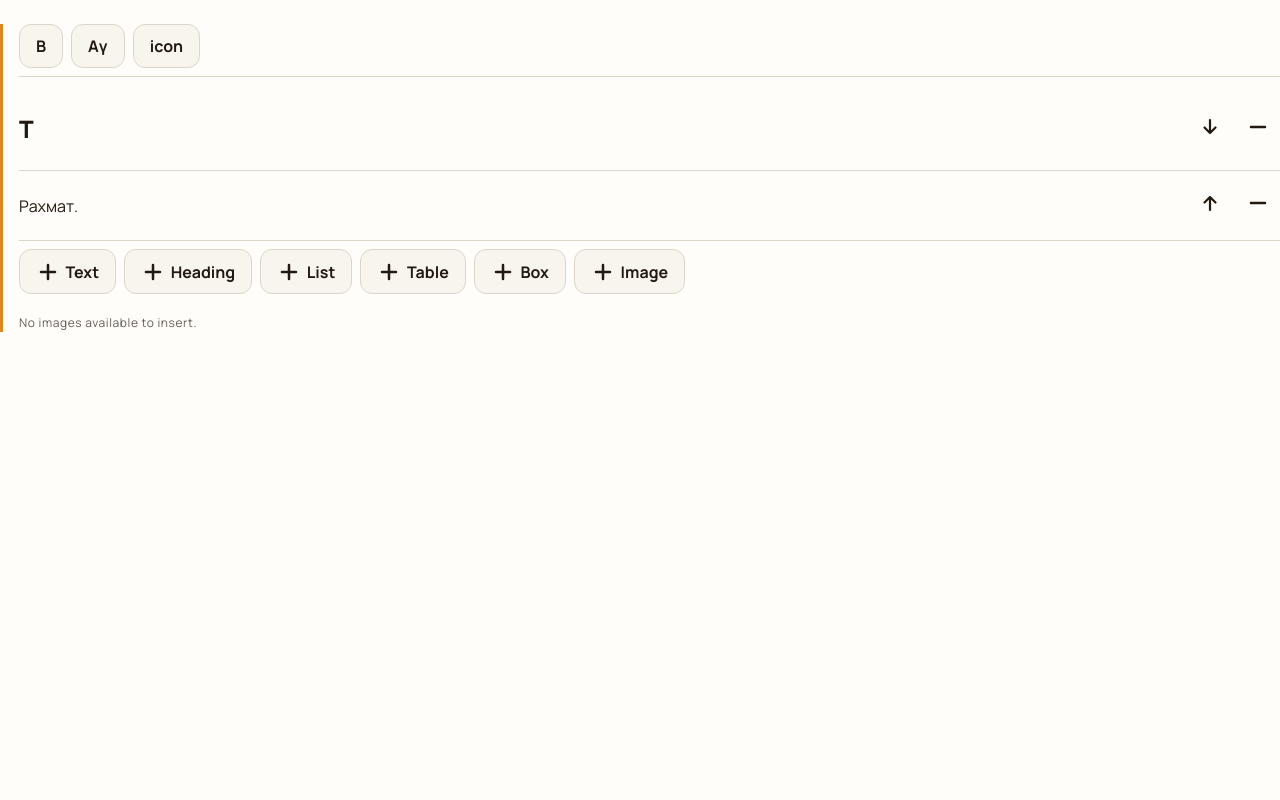
NoteEditor - lexicon sheet (spec 0021-3) › readout: exact match
This screenshot has width=1280, height=800.
Click the button with aria-label "Edit this text" at (49, 206), box [19,195,78,217]
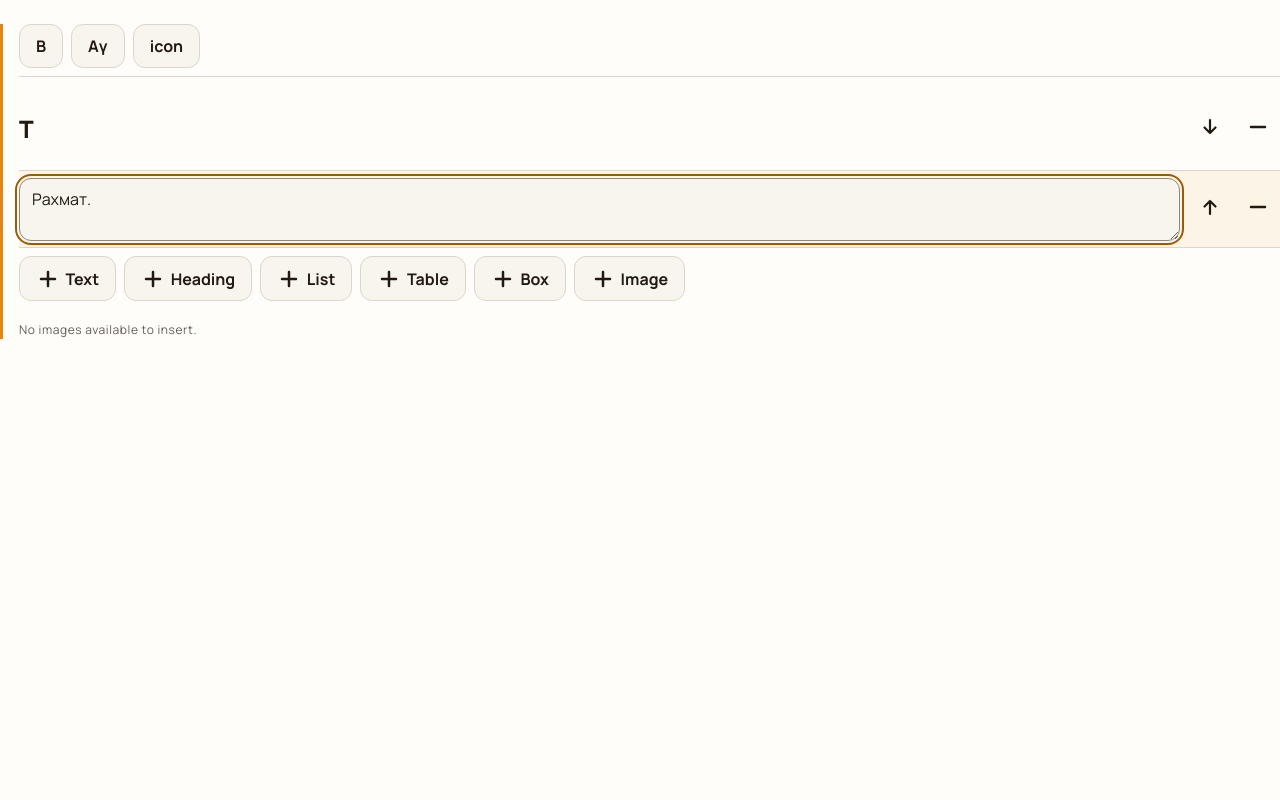
Click the button "Аү" at (98, 46), box [71,24,125,68]
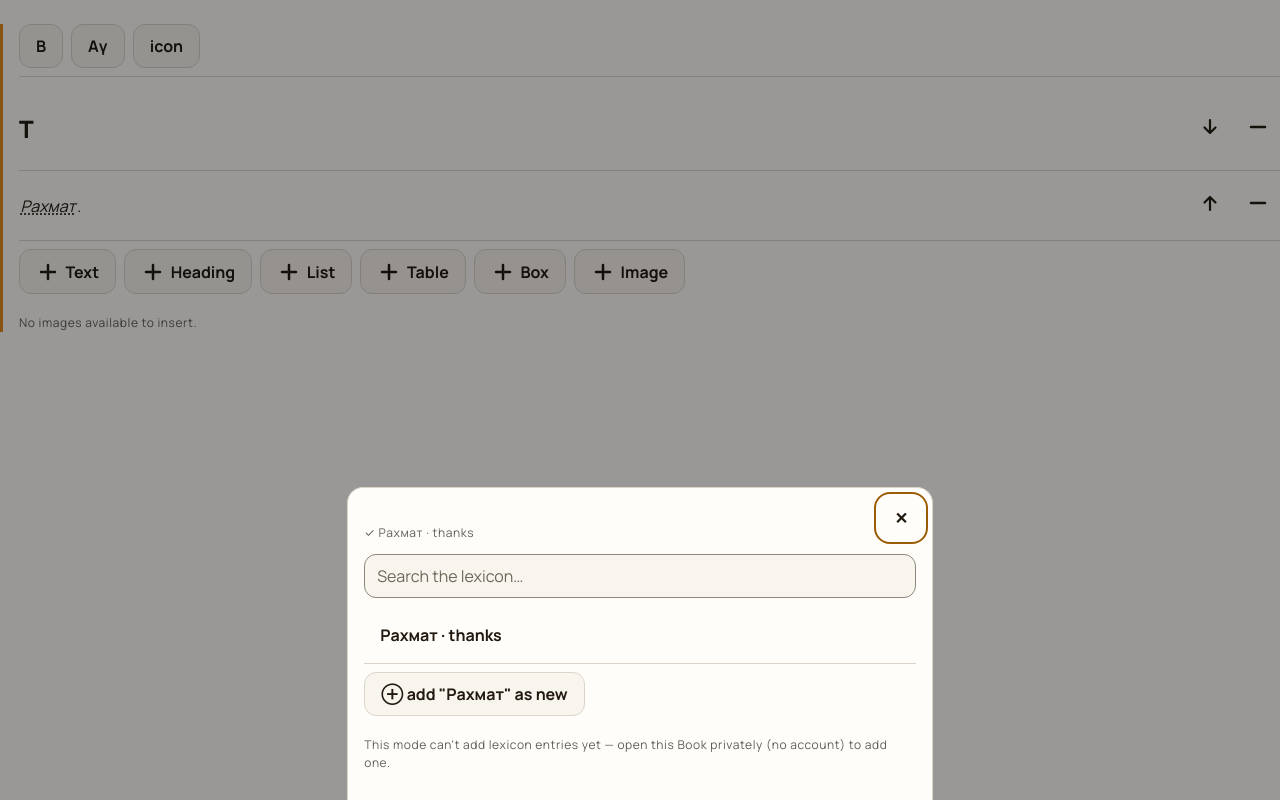
Expected: the text "✓ Рахмат · thanks" is shown, [364,524,474,541]
